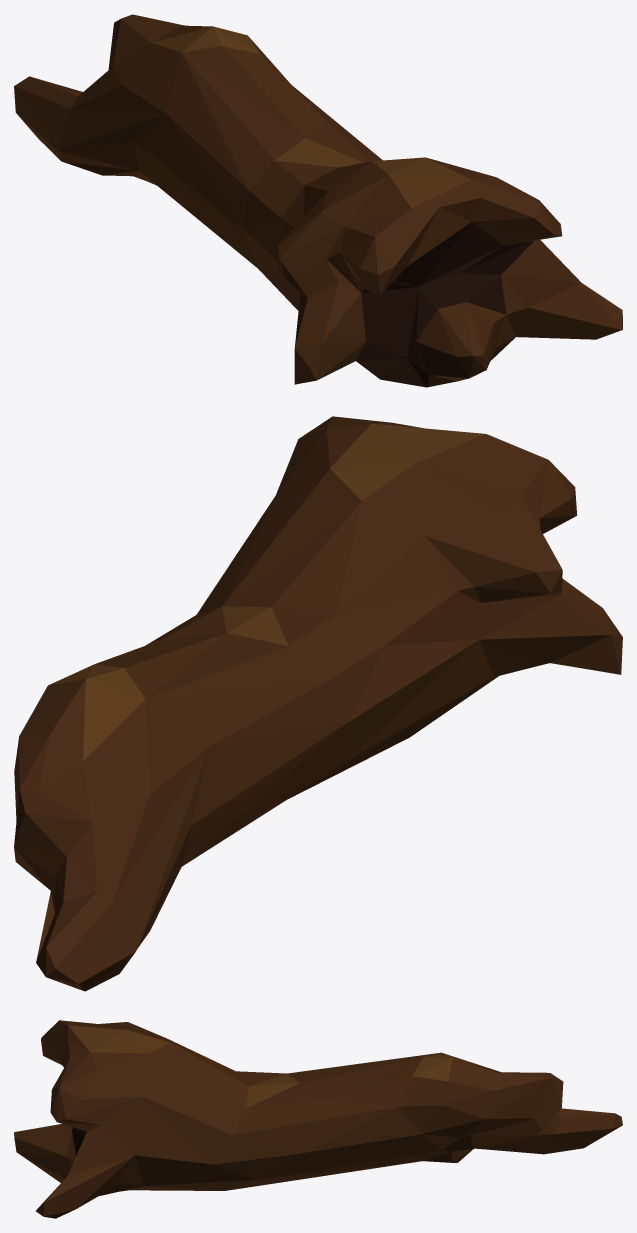
Rendered from Kutuk002.fbx.
3 views of the same model, one above another, from view 1: azimuth 30°, elevation 25°; view 2: azimuth 150°, elevation 25°; view 3: azimuth 270°, elevation 25° (orthographic). The views are drawn at different scales.
Parts seen in each view (by area): view 1: Cylinder.004; view 2: Cylinder.004; view 3: Cylinder.004.
Part boxes in pixels (box(x1,y1,x2,y2)): Cylinder.004: box(14, 14, 622, 387); Cylinder.004: box(14, 416, 622, 991); Cylinder.004: box(14, 1020, 622, 1218).
Bounding box in the file's own units: 1.25 × 2.83 × 0.7511.
